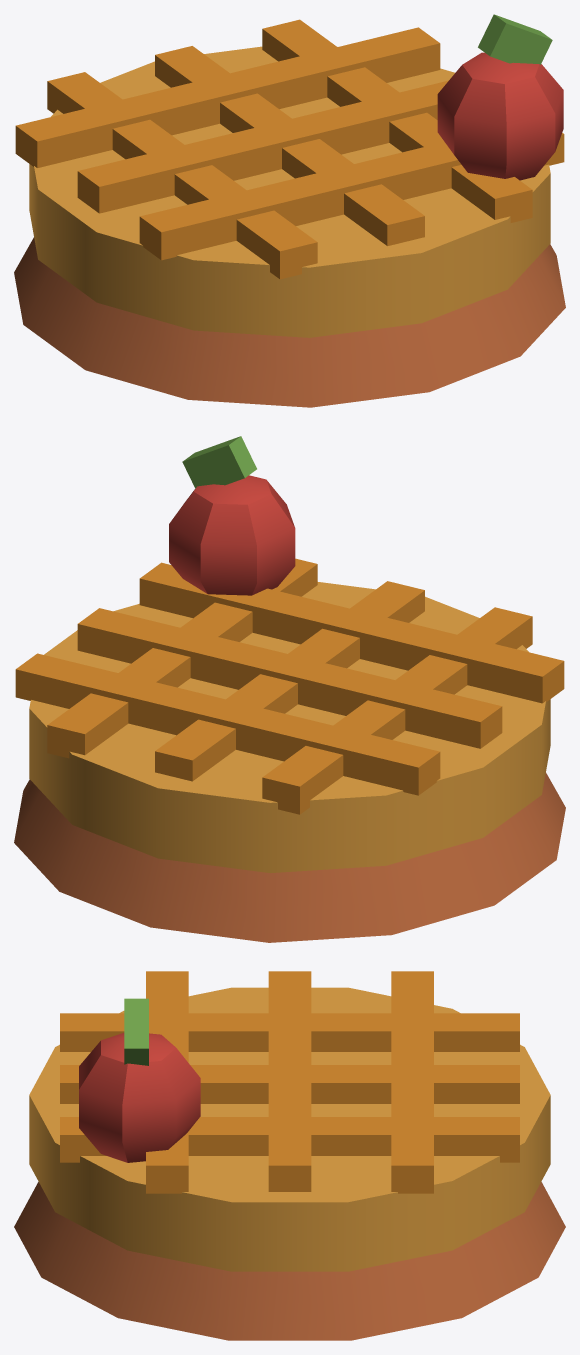
Rendered from PR_Drink_Turta.fbx.
3 views of the same model, one above another, from view 1: azimuth 30°, elevation 25°; view 2: azimuth 150°, elevation 25°; view 3: azimuth 270°, elevation 25° (orthographic).
Visible parts, largest first — view 1: PR_Drink_Turta; view 2: PR_Drink_Turta; view 3: PR_Drink_Turta.
Boxes of the visible parts, x1,y1,x2,y2 form: PR_Drink_Turta: (14, 14, 565, 407); PR_Drink_Turta: (14, 436, 565, 942); PR_Drink_Turta: (14, 971, 565, 1340).
Bounding box in the file's own units: 0.1755 × 0.1052 × 0.18.
